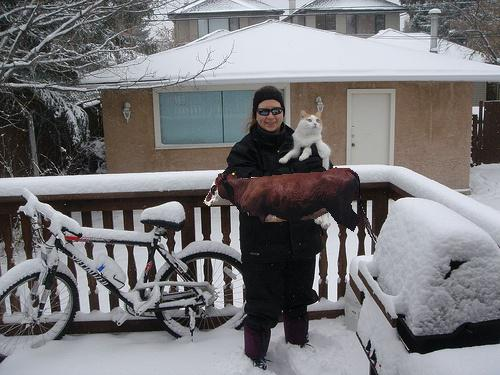tampered: (204, 168, 377, 244)
